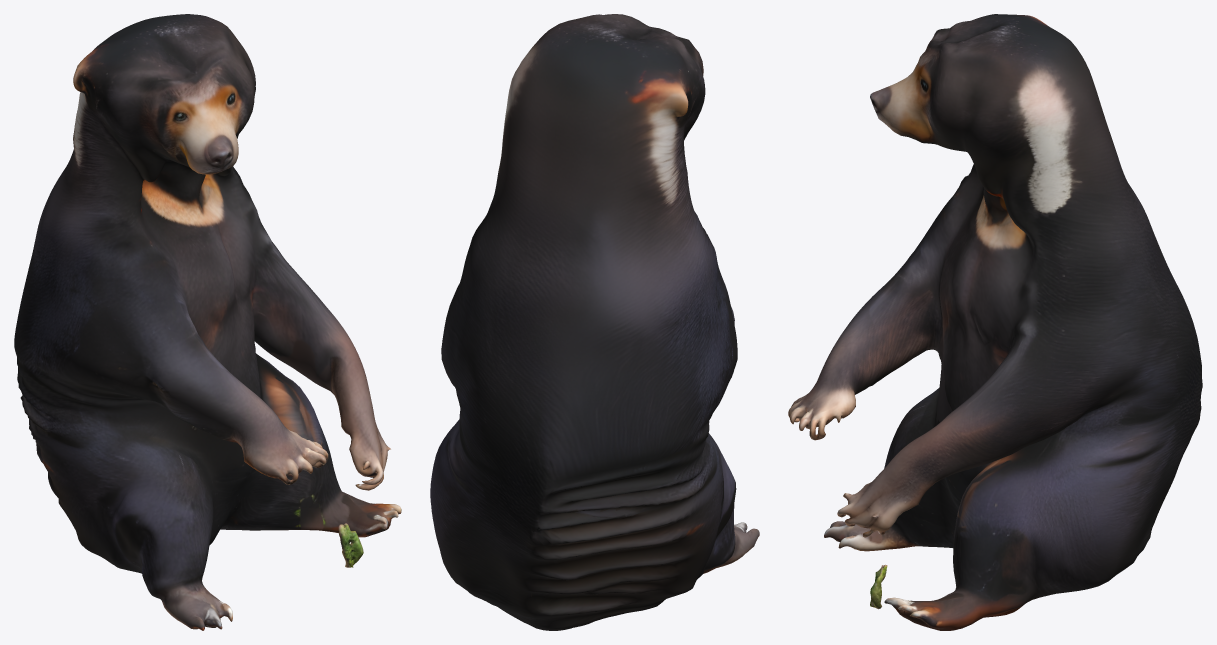
The model's file is beruang.fbx.
3 views of the same model, side by side, from view 1: azimuth 30°, elevation 25°; view 2: azimuth 150°, elevation 25°; view 3: azimuth 270°, elevation 25° (orthographic). The views are drawn at different scales.
Parts seen in each view (by area): view 1: model; view 2: model; view 3: model.
Boxes of the visible parts, x1,y1,x2,y2 form: model: [14, 14, 401, 630]; model: [430, 14, 759, 630]; model: [788, 14, 1202, 630].
Bounding box in the file's own units: 113 × 190 × 134.
